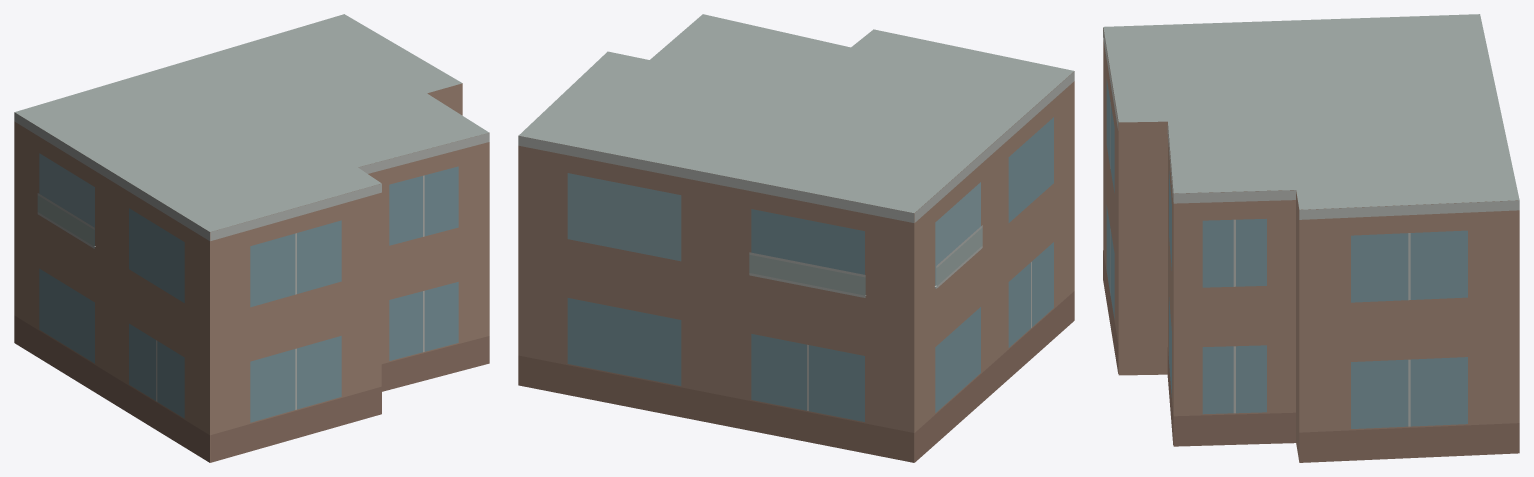
The model's file is survey-upis-32723773.glb.
3 renders of one model, left to right at view 1: azimuth 30°, elevation 25°; view 2: azimuth 150°, elevation 25°; view 3: azimuth 270°, elevation 25°, orthographic. The views are drawn at different scales.
Parts seen in each view (by area): view 1: survey-upis-32723773.tmp; view 2: survey-upis-32723773.tmp; view 3: survey-upis-32723773.tmp.
Part boxes in pixels (x1=…): survey-upis-32723773.tmp: x1=14, y1=14, x2=489, y2=462; survey-upis-32723773.tmp: x1=518, y1=14, x2=1074, y2=462; survey-upis-32723773.tmp: x1=1103, y1=14, x2=1519, y2=462.
Bounding box in the file's own units: 10.13 × 6.1 × 9.11.
